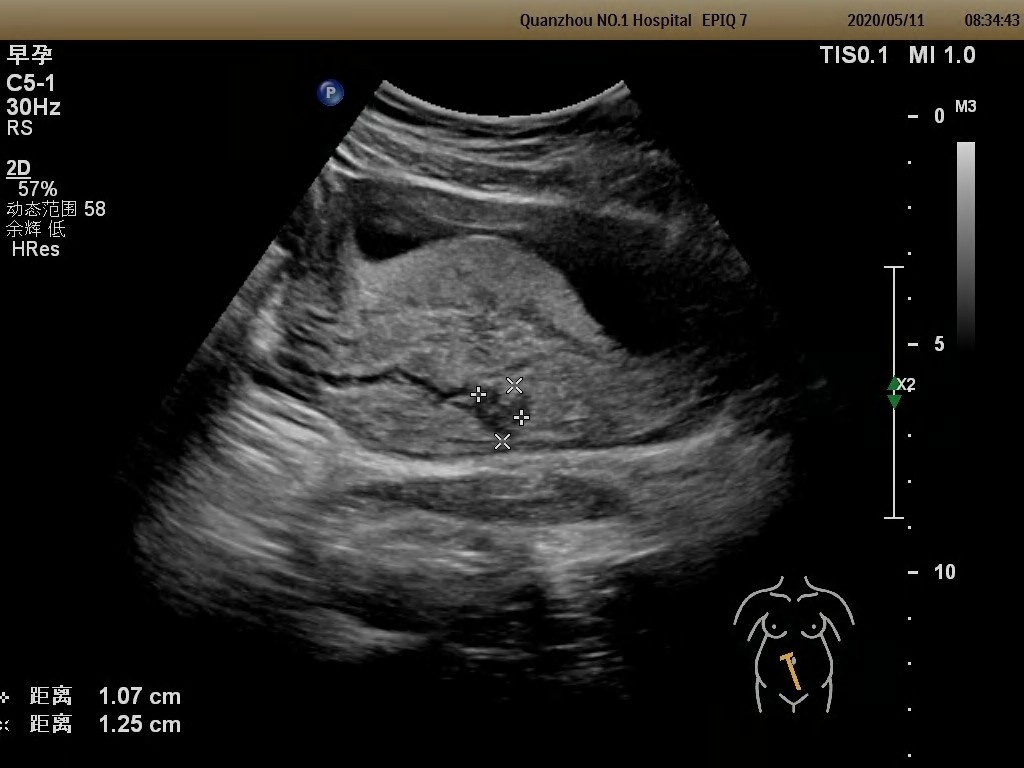肌瘤: (479, 387, 533, 432)
